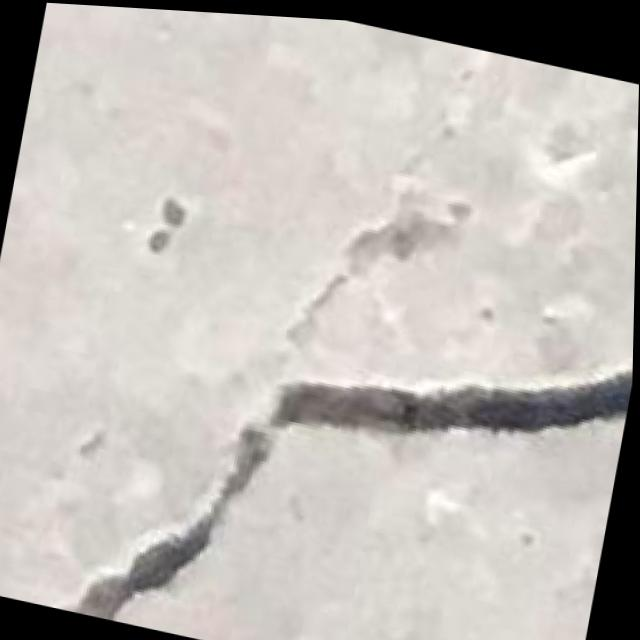Crack: (61, 217, 610, 640), (241, 275, 631, 533)
